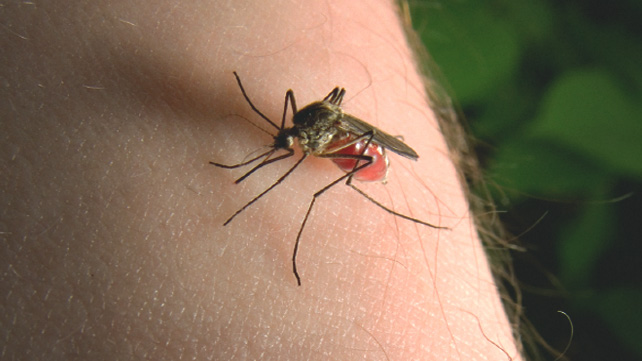dengue_mosquito: (209, 70, 453, 285)
